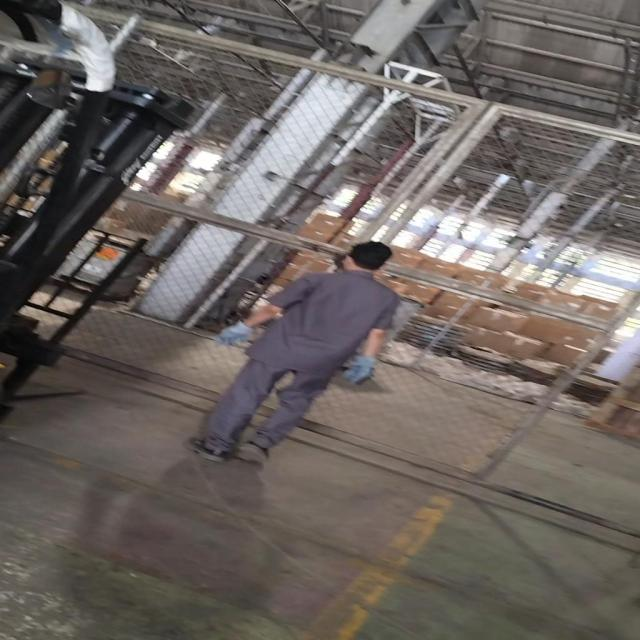Gloves-Detection: (208, 314, 248, 350), (349, 360, 375, 395)
